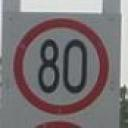speed_limit_80: (10, 15, 114, 117)
